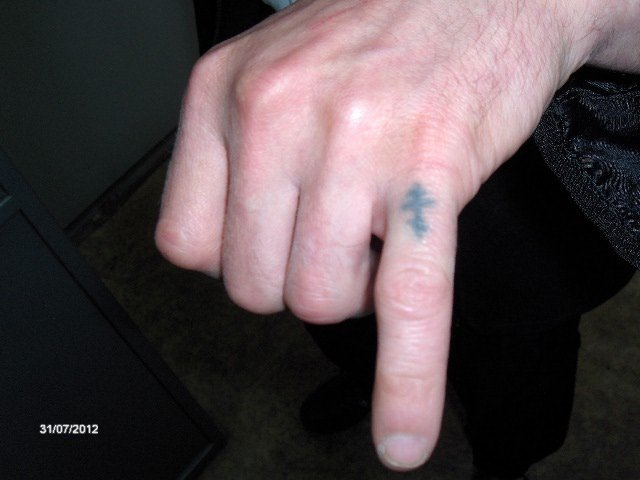tatu9_krest: (396, 179, 441, 247)
